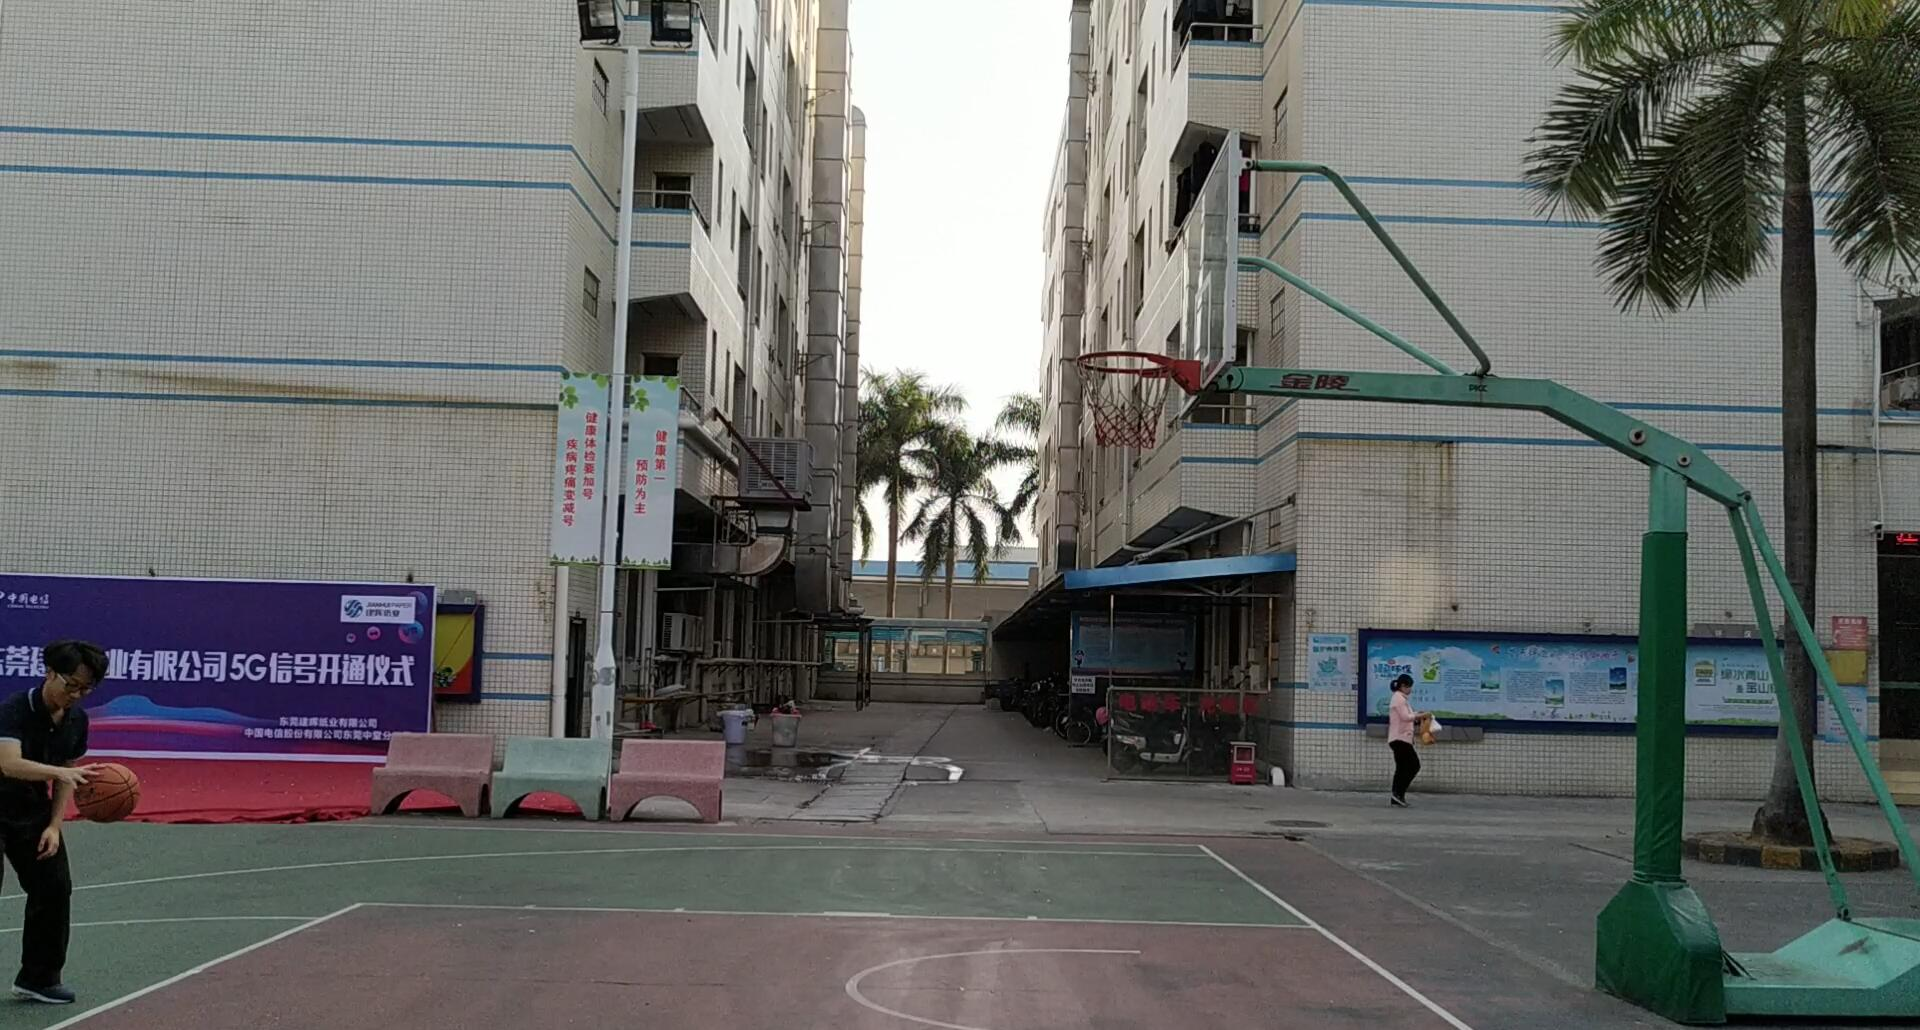basketball: (75, 759, 145, 829)
